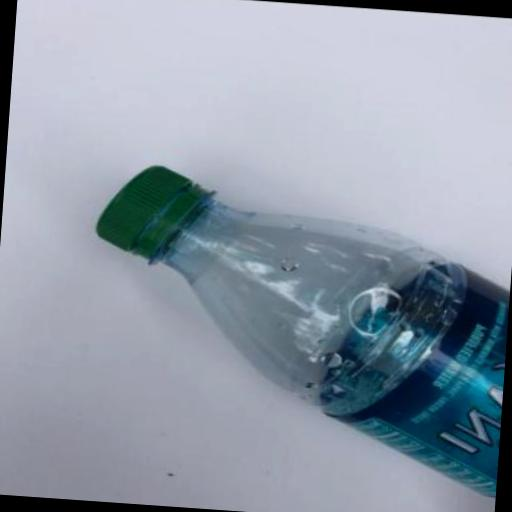plastic: (79, 159, 512, 496), (92, 157, 216, 266)
